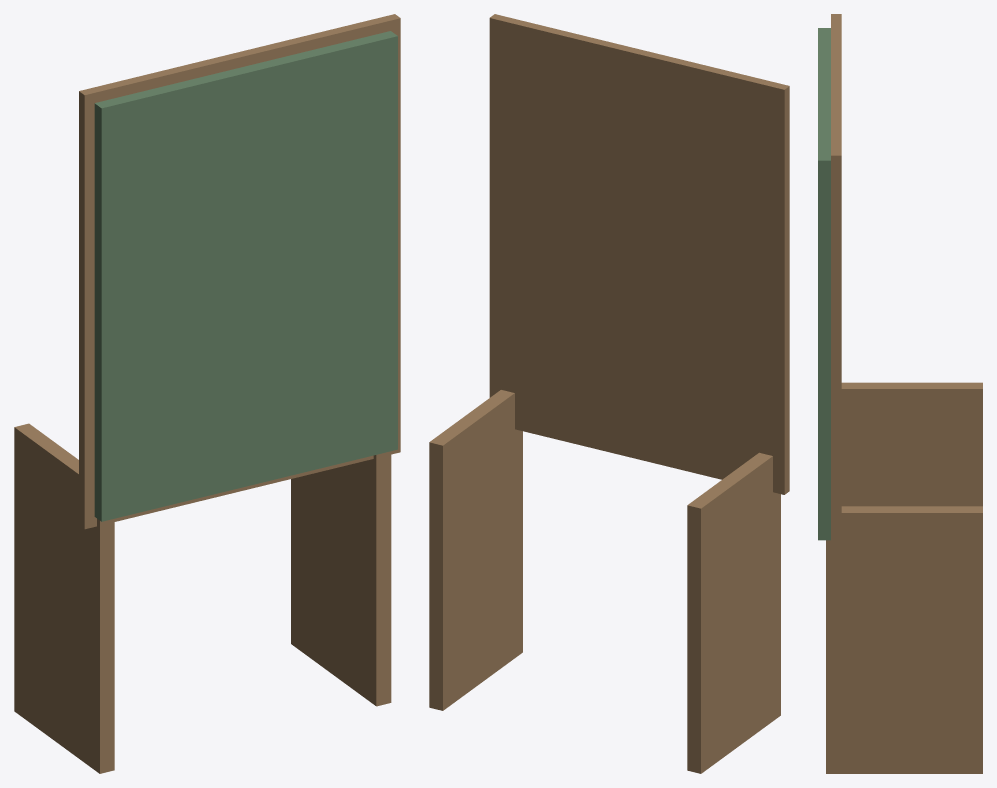
File: menu_board.glb
3 renders of one model, left to right at view 1: azimuth 30°, elevation 25°; view 2: azimuth 150°, elevation 25°; view 3: azimuth 270°, elevation 25°, orthographic. The views are drawn at different scales.
Visible parts, largest first — view 1: board, legs, frame; view 2: frame, legs; view 3: legs, board, frame.
Boxes of the visible parts, x1,y1,x2,y2 form: board: [94, 31, 397, 521]; legs: [14, 423, 391, 773]; frame: [79, 14, 400, 529]; frame: [489, 14, 789, 494]; legs: [429, 390, 780, 773]; legs: [826, 382, 982, 773]; board: [818, 28, 830, 540]; frame: [831, 14, 841, 553].
Bounding box in the file's own units: 0.64 × 1.32 × 0.315.
